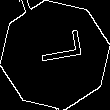L_W: (28, 35, 82, 75)
